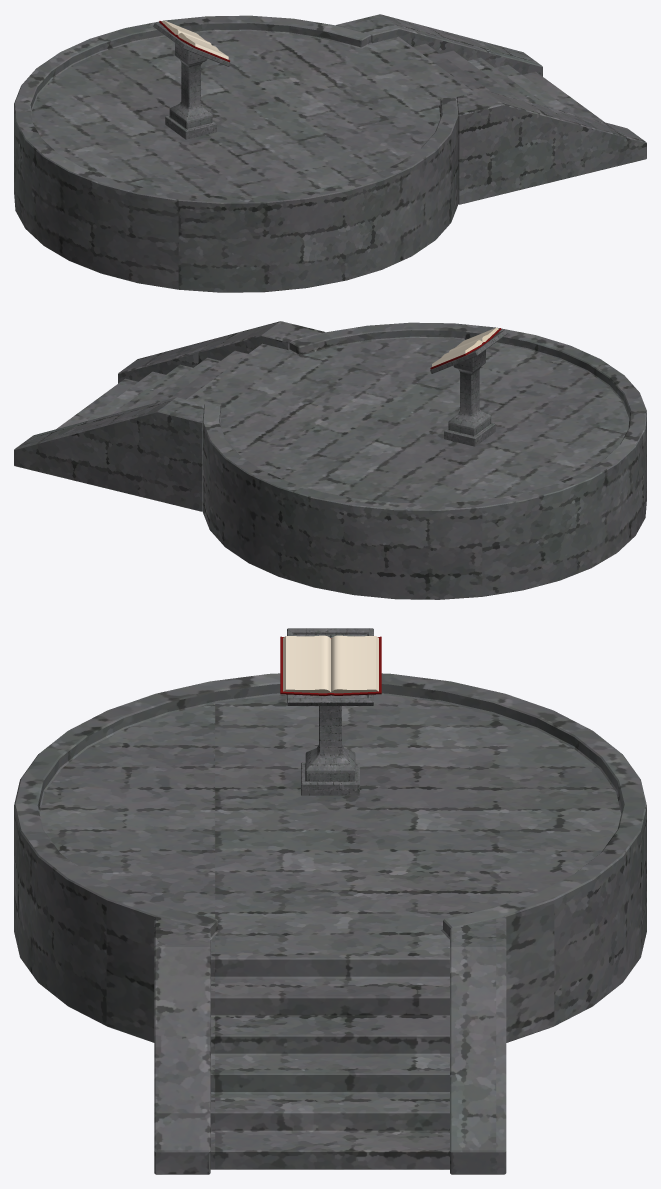
The model's file is Shrine.fbx.
3 renders of one model, top to bottom at view 1: azimuth 30°, elevation 25°; view 2: azimuth 150°, elevation 25°; view 3: azimuth 270°, elevation 25°, orthographic. The views are drawn at different scales.
Parts seen in each view (by area): view 1: Pupitre; view 2: Pupitre; view 3: Pupitre.
Boxes of the visible parts, box(x1,y1,x2,y2) form: Pupitre: box(14, 14, 646, 292); Pupitre: box(14, 321, 646, 599); Pupitre: box(14, 628, 646, 1174).
Size of the model in its own units: 692 by 222 by 492.
